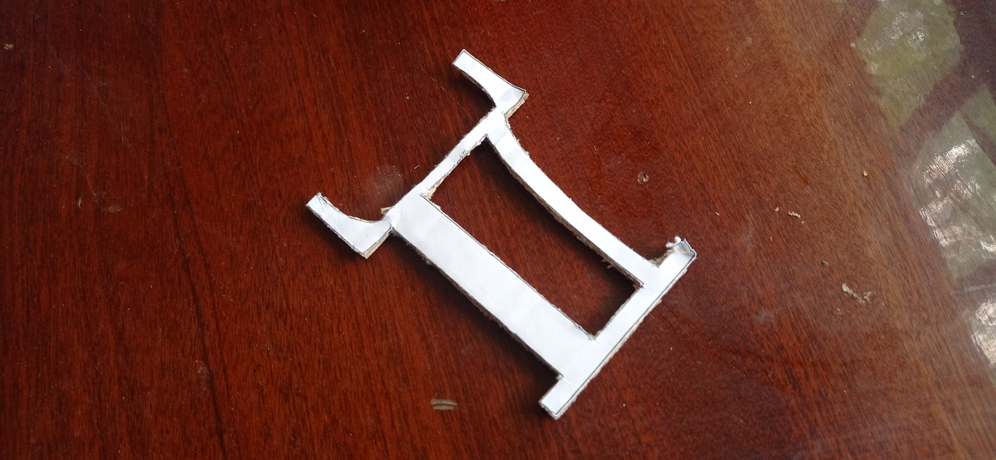d: (306, 46, 695, 421)
